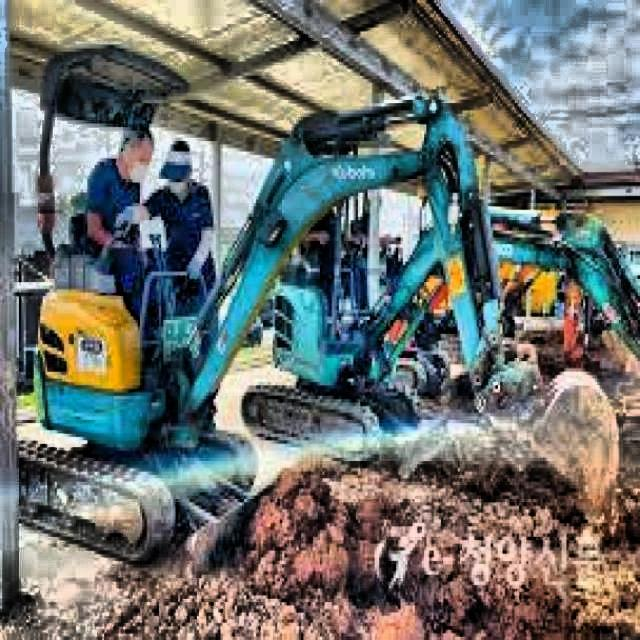bull_dozer/loader/grader: (19, 43, 622, 570), (240, 205, 640, 461)
person: (115, 139, 217, 289), (86, 126, 156, 264), (302, 198, 348, 292)
